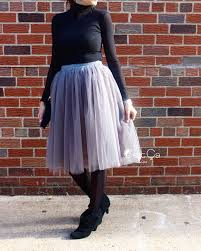C_skirt: (35, 58, 152, 179)
